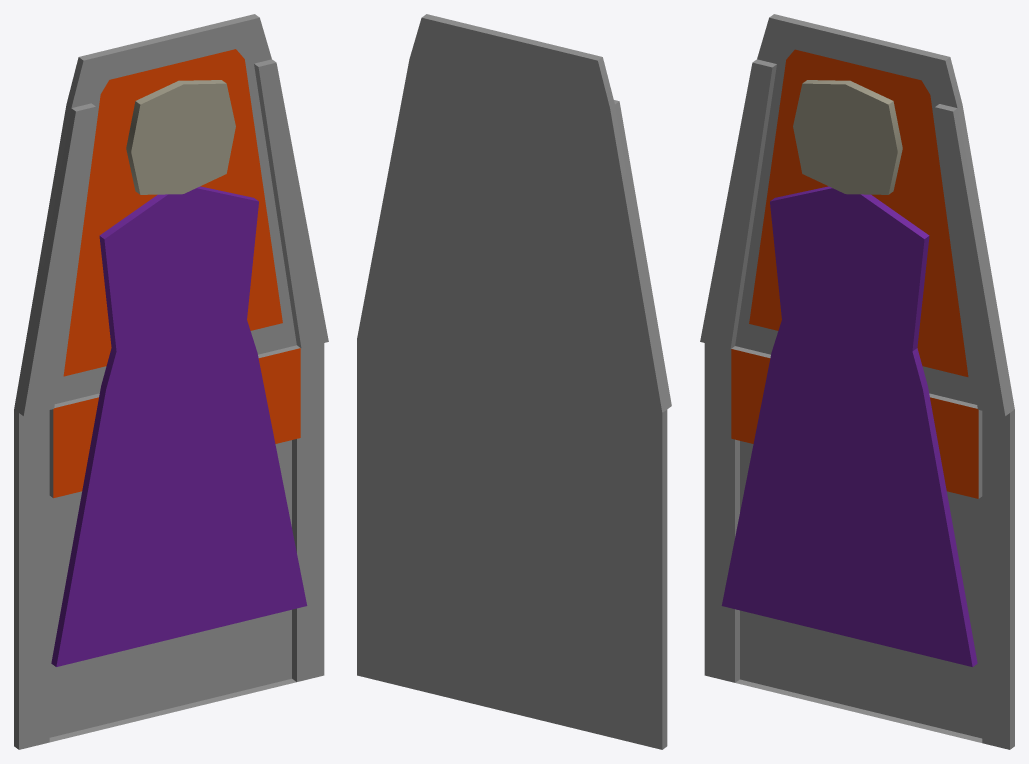
Rendered from ProtoThroneRoom_Thrown.fbx.
3 renders of one model, left to right at view 1: azimuth 30°, elevation 25°; view 2: azimuth 150°, elevation 25°; view 3: azimuth 330°, elevation 25°, orthographic.
Parts seen in each view (by area): view 1: Throne, Person5, Head; view 2: Throne; view 3: Throne, Person5, Head.
Part boxes in pixels (<box>): Throne: <box>14,14,328,749</box>; Person5: <box>51,186,307,666</box>; Head: <box>126,80,235,194</box>; Throne: <box>357,14,671,749</box>; Throne: <box>700,14,1014,749</box>; Person5: <box>721,186,977,666</box>; Head: <box>793,80,902,194</box>.
Size of the model in its own units: 84.61 by 178 by 8.09.
